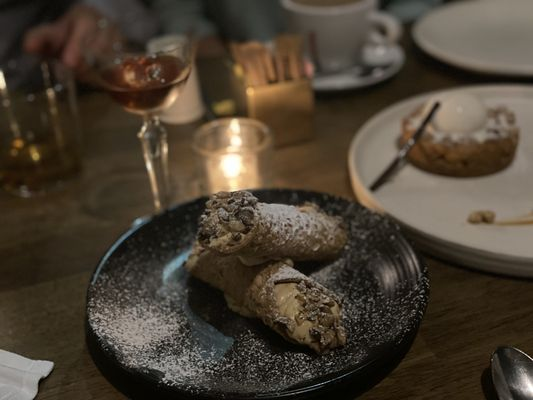salad: (368, 99, 442, 192), (486, 345, 533, 400)
sandwich: (368, 99, 442, 192)
